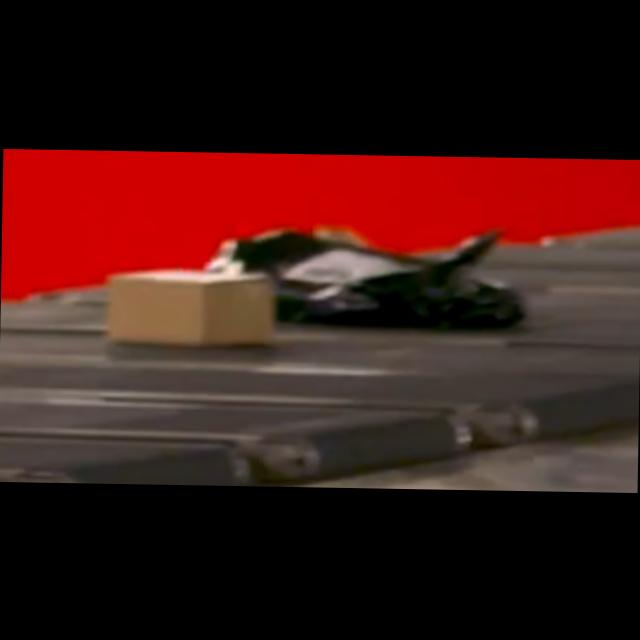box: (104, 270, 276, 348)
mailer: (218, 232, 521, 328)
